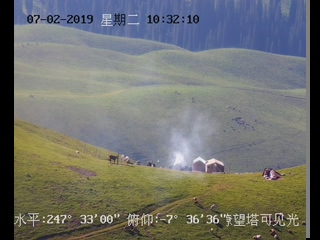smoke: (164, 106, 211, 172)
